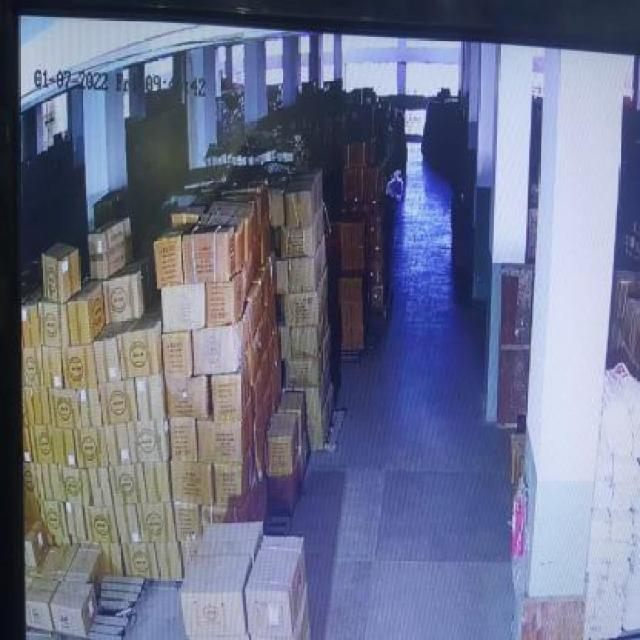fire: (384, 164, 406, 207)
